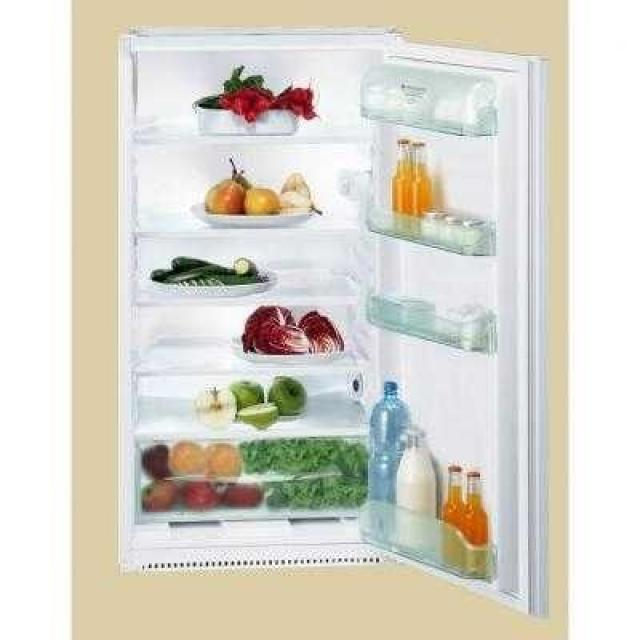refrigerator: (116, 30, 550, 609)
